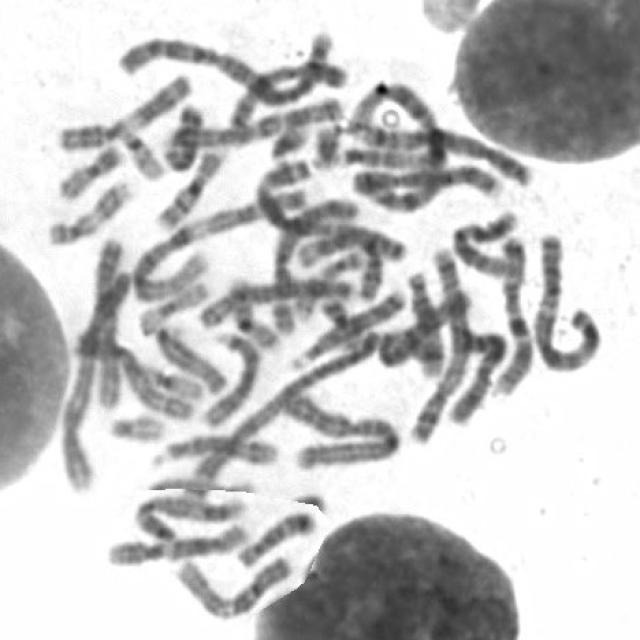A1: (130, 178, 310, 304), (343, 72, 449, 215)
A2: (113, 28, 344, 101), (272, 384, 402, 469)
A3: (251, 154, 404, 261), (526, 225, 604, 374)
B4: (180, 330, 370, 503), (55, 263, 135, 499)
B5: (406, 249, 483, 448), (354, 119, 535, 190)
C10: (168, 546, 297, 622), (378, 290, 470, 365)
C11: (49, 66, 196, 152), (291, 225, 386, 302)
C12: (100, 516, 250, 568), (446, 203, 520, 280)
C6: (265, 198, 361, 338), (442, 324, 510, 426)
C7: (159, 91, 346, 155), (488, 228, 535, 396)
C8: (223, 53, 339, 130), (343, 158, 502, 200)
C9: (70, 236, 136, 362), (129, 489, 250, 542)
D13: (283, 282, 410, 372), (197, 324, 264, 428)
D14: (142, 427, 280, 471), (399, 262, 447, 379)
D15: (149, 316, 230, 396), (331, 140, 420, 169)
E16: (150, 142, 230, 231), (223, 272, 283, 352)
E17: (41, 172, 137, 248), (295, 255, 368, 321)
E18: (232, 504, 318, 569), (158, 96, 208, 174)
F19: (131, 273, 211, 338), (134, 356, 205, 402)
F20: (52, 137, 127, 202), (322, 301, 363, 357)
G21: (262, 116, 312, 162), (306, 118, 345, 170)
G22: (112, 119, 168, 182), (101, 406, 168, 444)
X: (97, 343, 198, 423)
